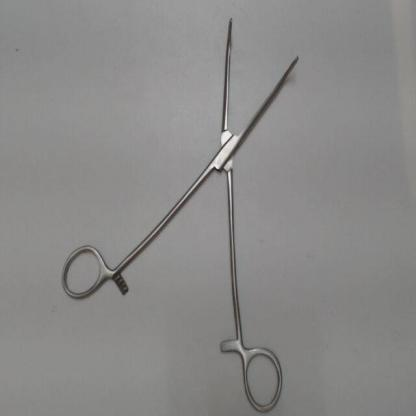Lahey Forceps: (56, 11, 306, 413)
